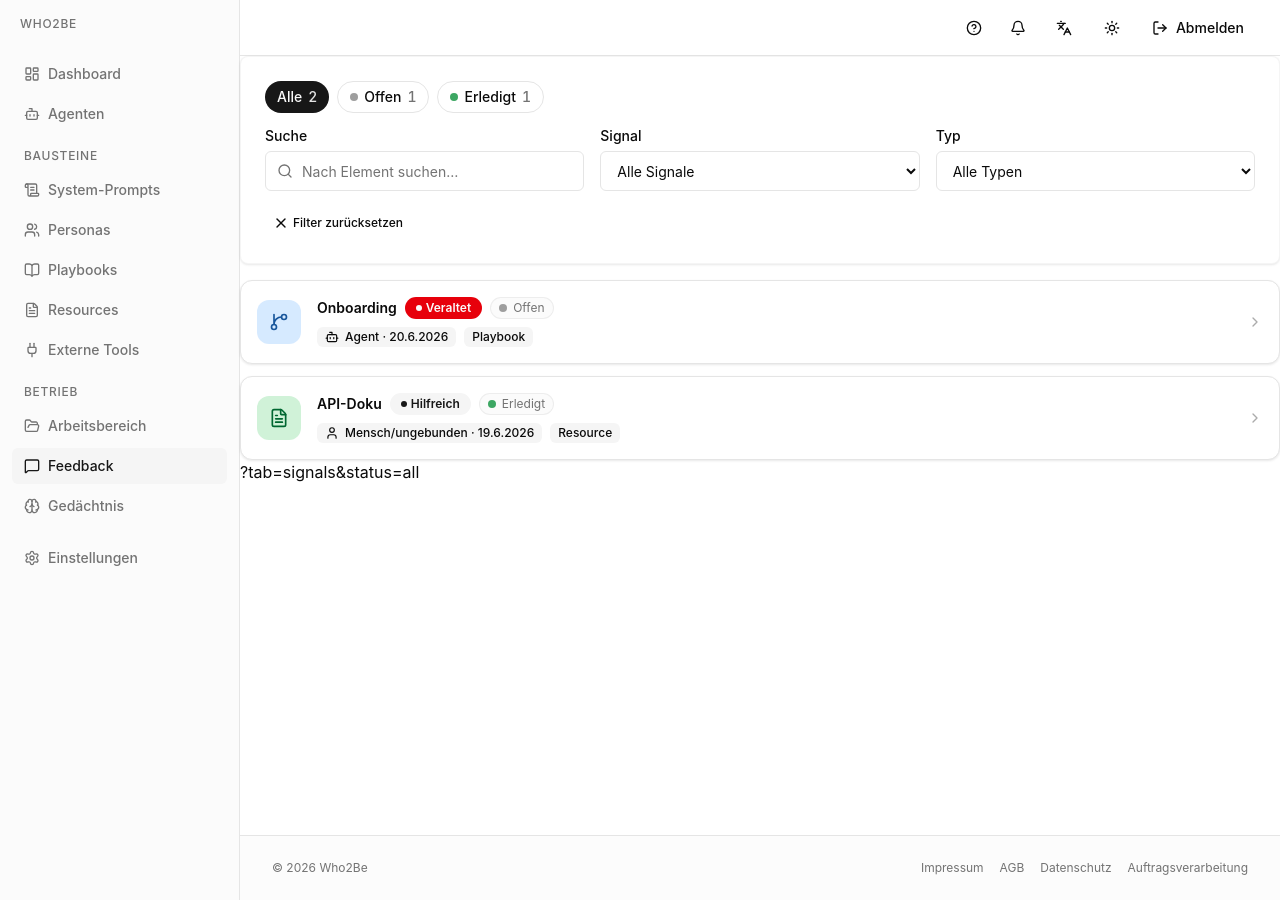
Scenario: FeedbackInbox › filtert per Suche und Typ; die Chip-Zahlen folgen der Auswahl
The image size is (1280, 900).
Expected: the link "Onboarding" is shown, x1=317 y1=298 x2=397 y2=318
Type "api" into the field labelled "Suche". click: (425, 171)
box: x1=265 y1=151 x2=584 y2=191
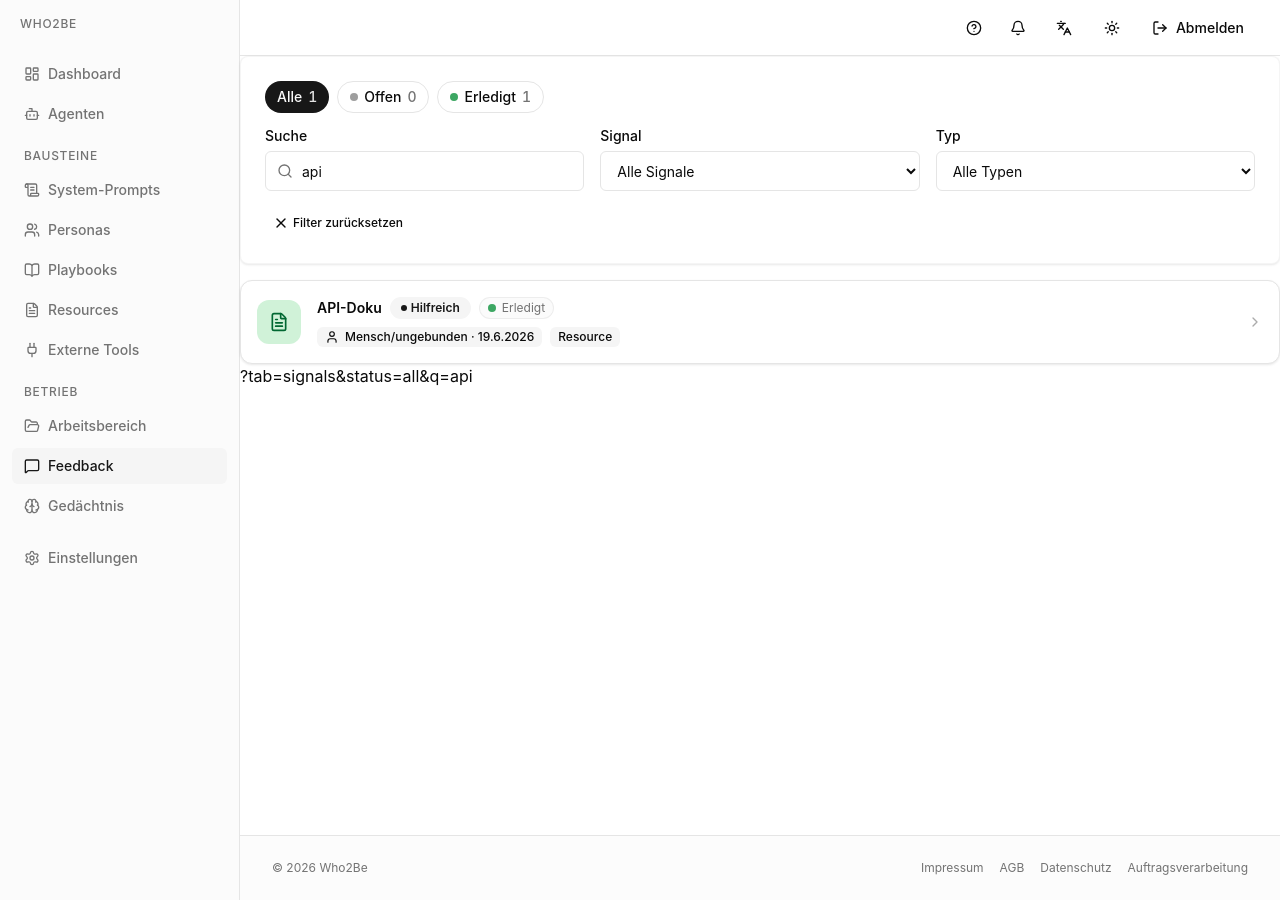
Now the link "Onboarding" is gone
Now the button "Alle 1" is shown, box x1=265 y1=81 x2=329 y2=113
Now the text with test id "location" shows "q=api", box x1=240 y1=366 x2=473 y2=386
Select "Playbook" in the dropdown labelled "Typ". click: (1095, 171)
box: x1=936 y1=151 x2=1255 y2=191
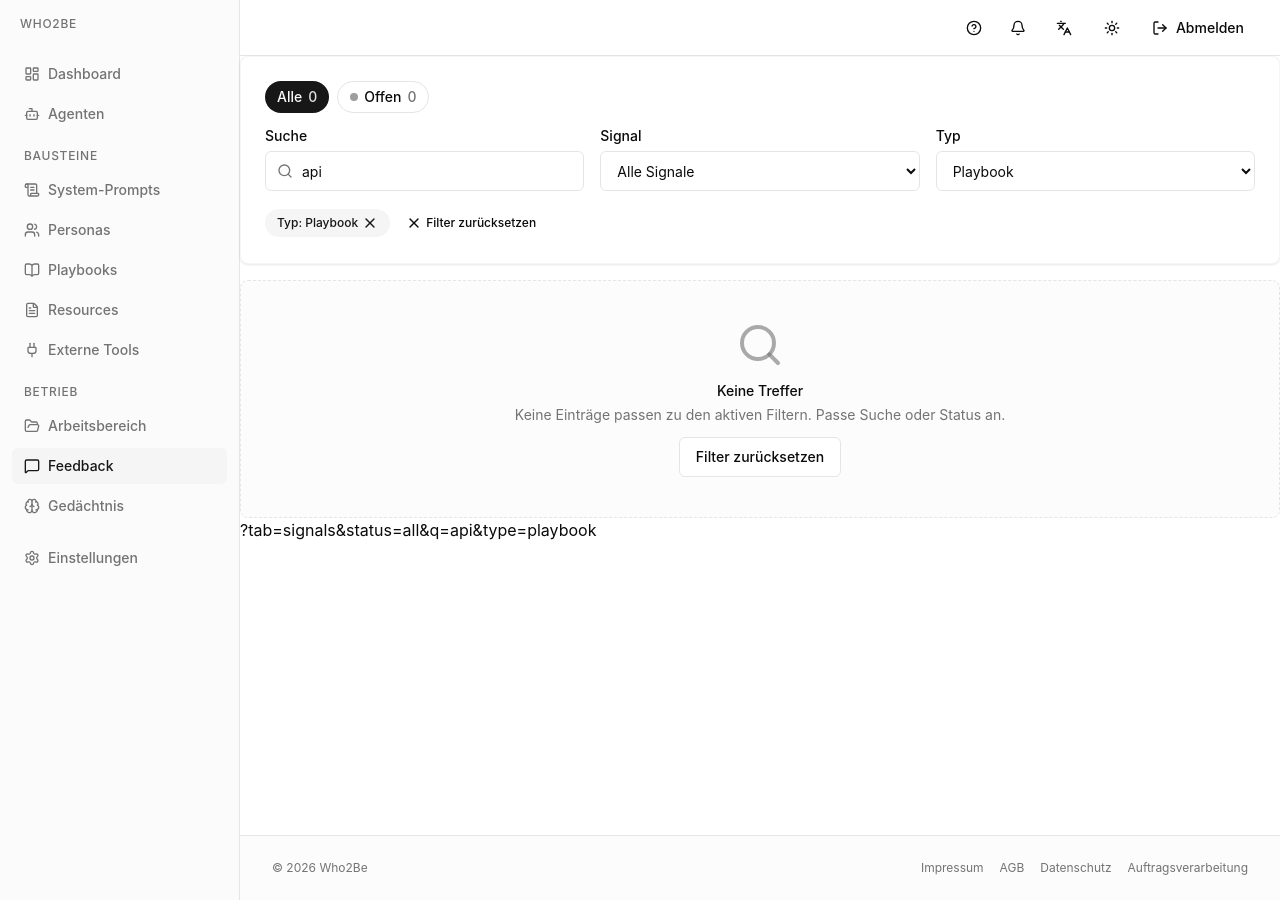
Now the text with test id "location" shows "type=playbook", box x1=240 y1=520 x2=596 y2=540
Now the text "Keine Treffer" is shown, box x1=717 y1=382 x2=803 y2=399
